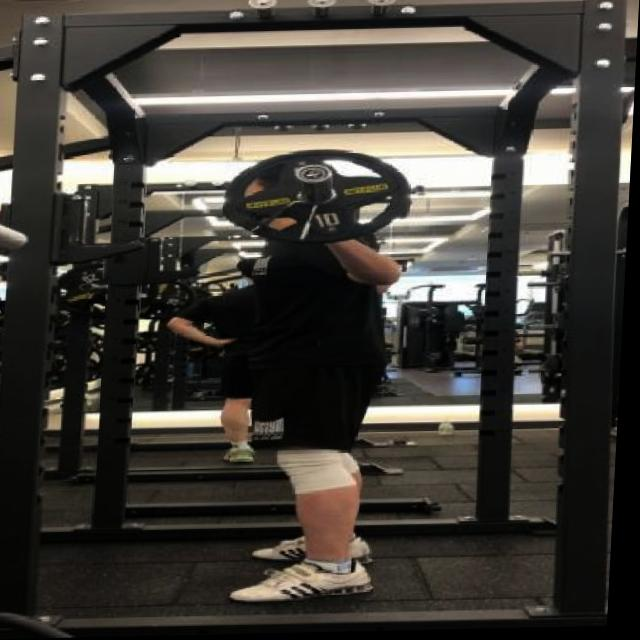barbell: (219, 146, 417, 255)
